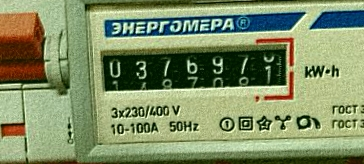0: (106, 57, 123, 78)
1: (262, 63, 274, 85)
3: (133, 57, 148, 81)
6: (185, 53, 199, 75)
7: (159, 53, 173, 78), (236, 52, 250, 75)
9: (210, 53, 224, 75)
screen: (93, 34, 299, 112)
